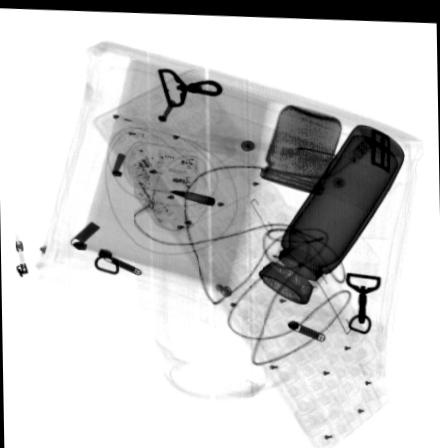Bullet: (163, 188, 215, 204)
